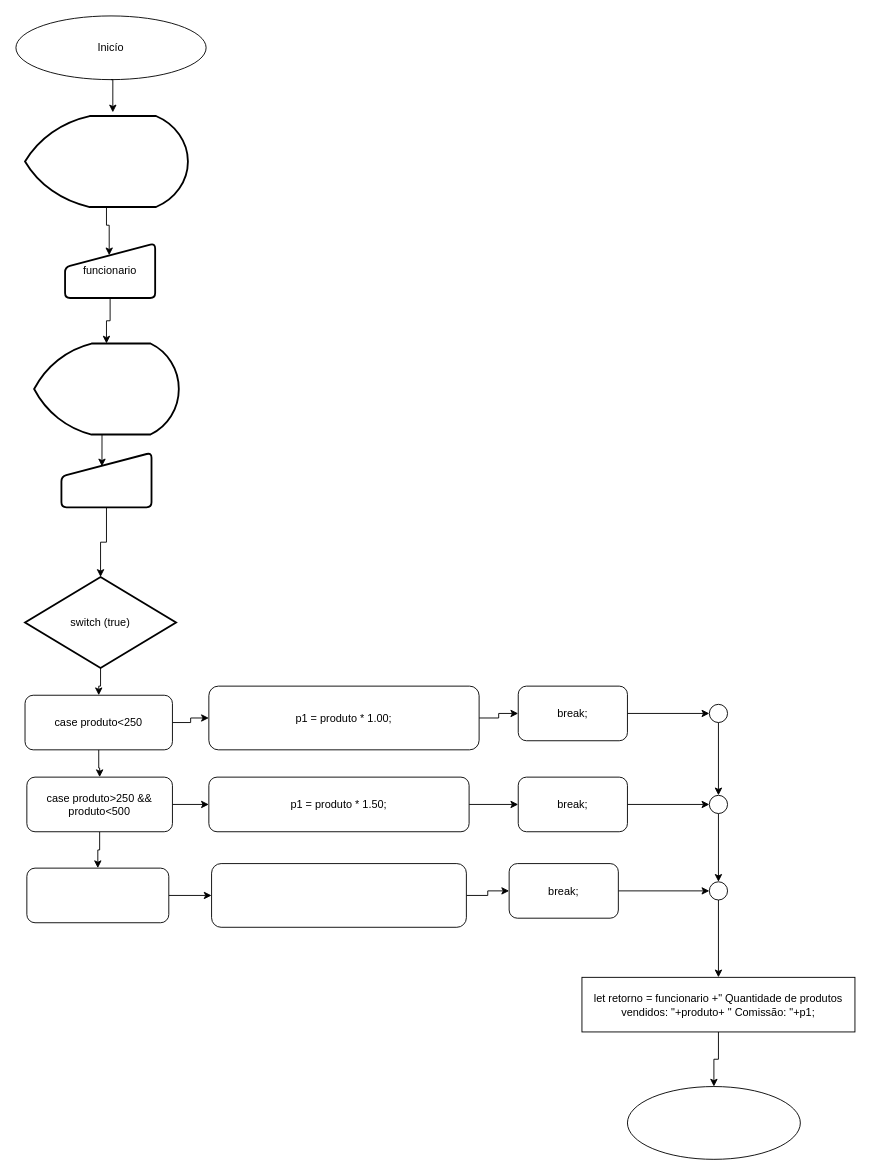
The diagram is 871 pixels wide and 1176 high, and some of its shapes have lost their labels. The shapes that lost their labels are listed below. From the top down, each one's centre as x and y in pixels, then its label:
At [106,161]: "Insira o nome do funcionário".
At [106,388]: "Quantos produtos este funcionário vendeu?".
At [106,479]: "produto".
At [97,895]: "case produto>500".
At [338,895]: "p1 = produto * 2.00;".
At [713,1122]: "fim".
